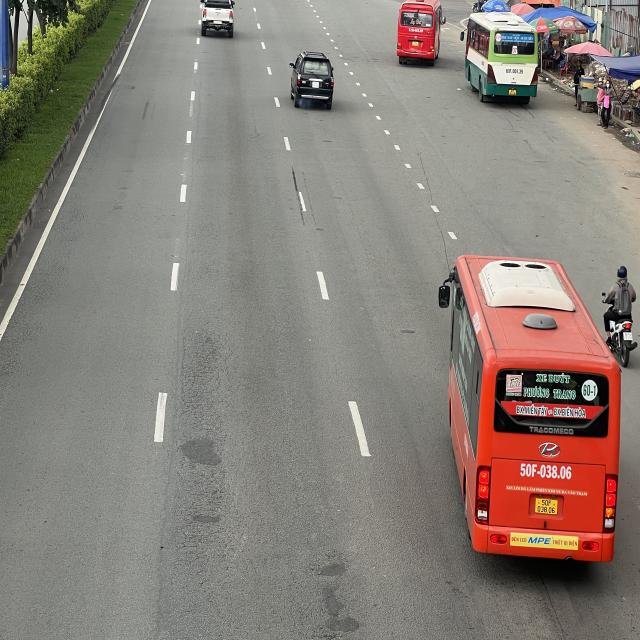car: (288, 51, 336, 109), (200, 2, 237, 38)
coach: (440, 253, 620, 561), (460, 9, 540, 104), (397, 3, 444, 66)
